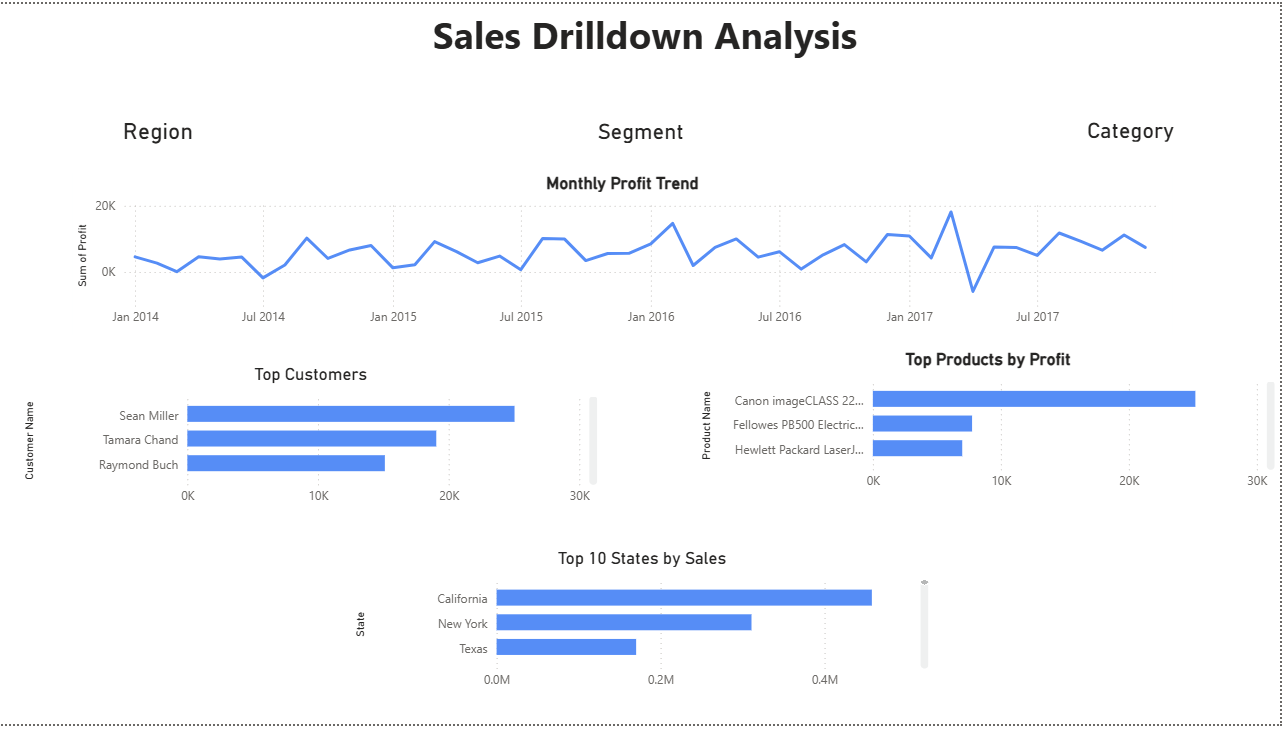

The dashboard page shown, as its layout file describes it:
{"tool":"powerbi","page":{"name":"Sales Drilldown Analysis","canvas":[1280,720],"ordinal":1},"visuals":[{"type":"textbox","box":[10,0,1270,73.8],"z":0},{"type":"lineChart","title":"Monthly Profit Trend","fields":{"Y":["Sum(Sample - Superstore.Profit)"],"Category":["Sample - Superstore.Month Year.Variation.Date Hierarchy.Year","Sample - Superstore.Month Year.Variation.Date Hierarchy.Quarter","Sample - Superstore.Month Year.Variation.Date Hierarchy.Month","Sample - Superstore.Month Year.Variation.Date Hierarchy.Day"]},"box":[72.5,168.8,1100,162.5],"z":1000},{"type":"barChart","title":"Top Customers","fields":{"Category":["Sample - Superstore.Customer Name"],"Y":["Sum(Sample - Superstore.Sales)"]},"box":[18.8,360,583.8,150],"z":2000},{"type":"barChart","title":"Top Products by Profit","fields":{"Category":["Sample - Superstore.Product Name"],"Y":["Sum(Sample - Superstore.Profit)"]},"box":[696.2,345,583.8,150],"z":3000},{"type":"funnel","fields":{"Category":["Sample - Superstore.Region"]},"box":[61.2,113.8,193.8,53.8],"z":4000},{"type":"funnel","fields":{"Category":["Sample - Superstore.Segment"]},"box":[531.2,115,218.8,53.8],"z":5000},{"type":"funnel","fields":{"Category":["Sample - Superstore.Category"]},"box":[1041.2,113.8,178.8,47.5],"z":6000},{"type":"clusteredBarChart","title":"Top 10 States by Sales","fields":{"Category":["Sample - Superstore.State"],"Y":["Sum(Sample - Superstore.Sales)"]},"box":[350,543.8,583.8,150],"z":7000}]}

Visuals, with their boxes in screenshot pixels (x1, y1, x2, y2), scaled from the page's 1280x720 canvas onto the 1284x729 screenshot:
textbox: box(10, 0, 1283, 75)
"Monthly Profit Trend" lineChart: box(73, 171, 1176, 335)
"Top Customers" barChart: box(19, 364, 604, 516)
"Top Products by Profit" barChart: box(698, 349, 1283, 501)
funnel - Sample - Superstore.Region: box(61, 115, 256, 170)
funnel - Sample - Superstore.Segment: box(533, 116, 752, 171)
funnel - Sample - Superstore.Category: box(1044, 115, 1224, 163)
"Top 10 States by Sales" clusteredBarChart: box(351, 551, 937, 702)
